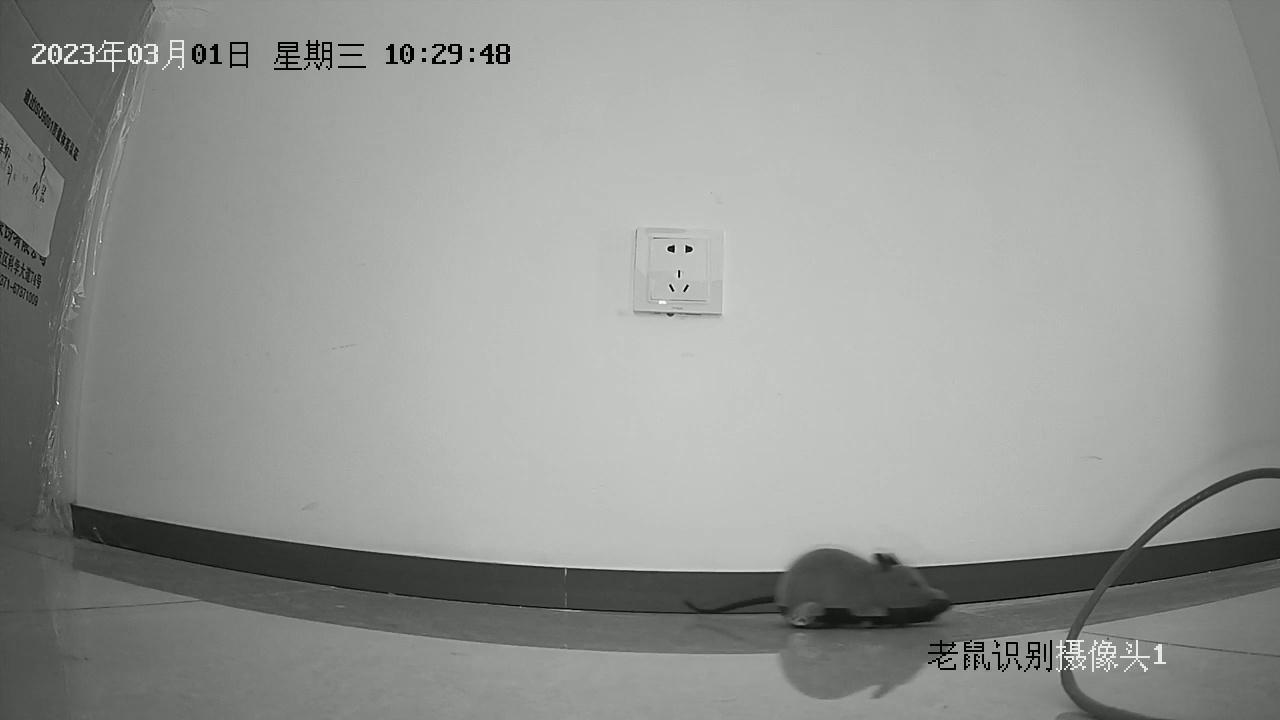rat: (682, 548, 950, 628)
